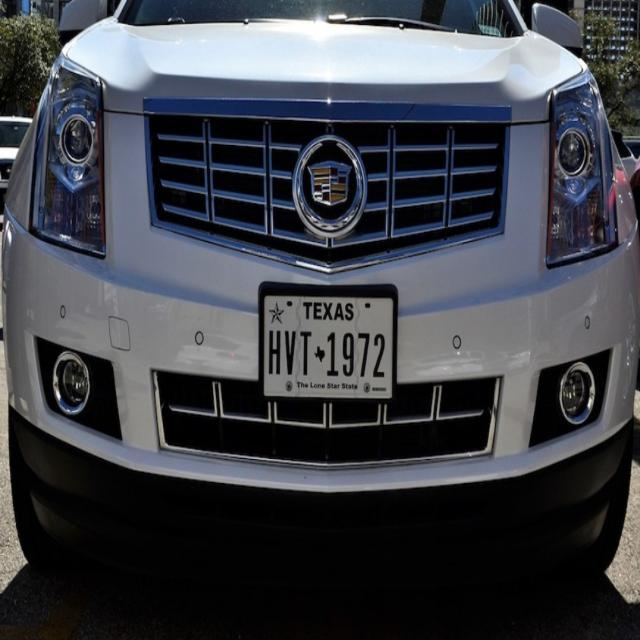LicensePlate: (262, 290, 394, 400)
